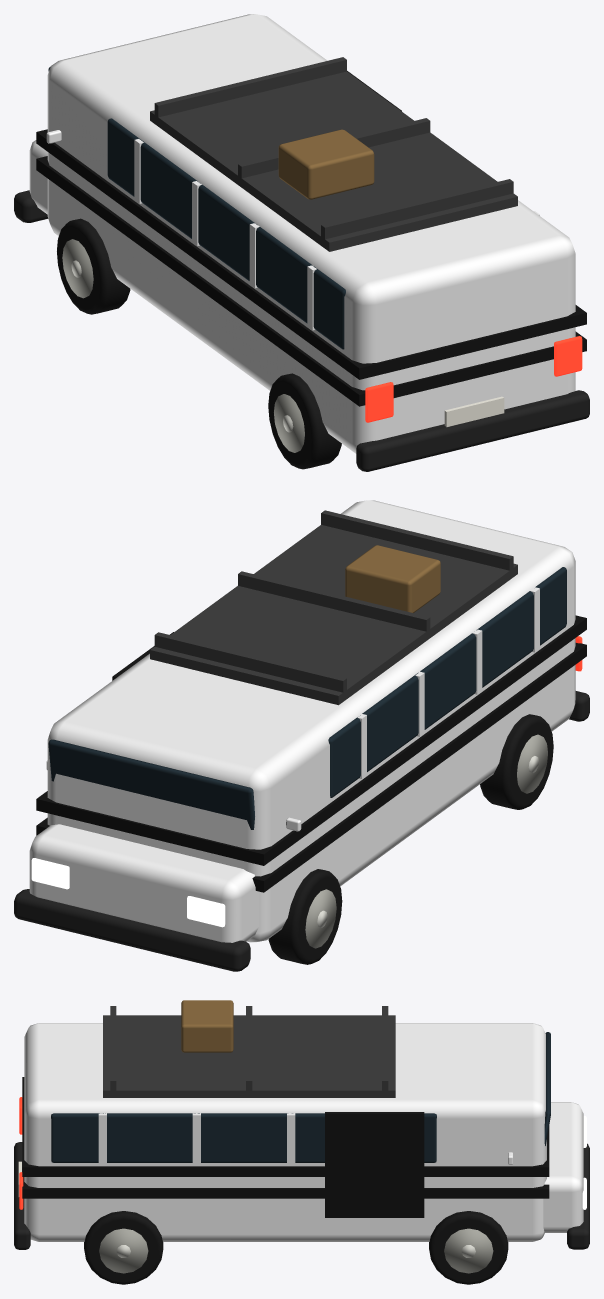
Rendered from danfo.glb.
3 renders of one model, top to bottom at view 1: azimuth 30°, elevation 25°; view 2: azimuth 150°, elevation 25°; view 3: azimuth 270°, elevation 25°, orthographic. The views are drawn at different scales.
Parts seen in each view (by area): view 1: danfo; view 2: danfo; view 3: danfo.
Part boxes in pixels (left/top/right/bottom): danfo: left=14, top=14, right=589, bottom=471; danfo: left=14, top=500, right=589, bottom=971; danfo: left=14, top=1000, right=589, bottom=1284.
Bounding box in the file's own units: 2.28 × 2.25 × 5.51.
